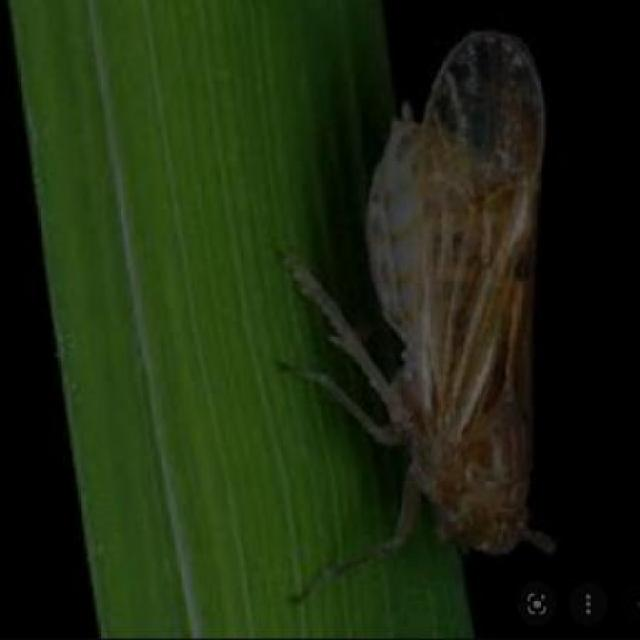brown-planthopper: (360, 28, 552, 555)
